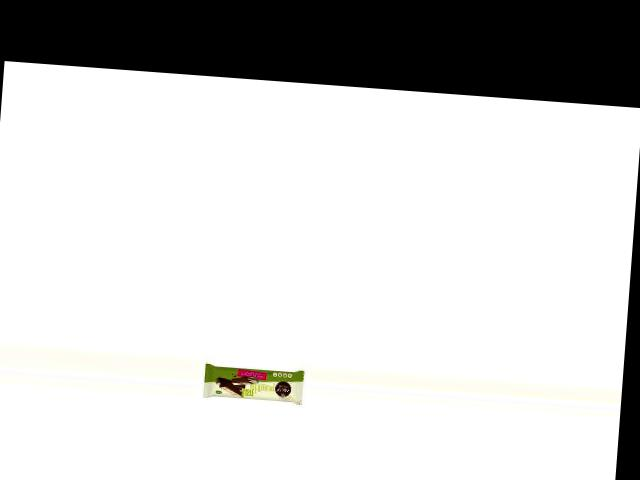chocolate: (200, 359, 304, 407)
